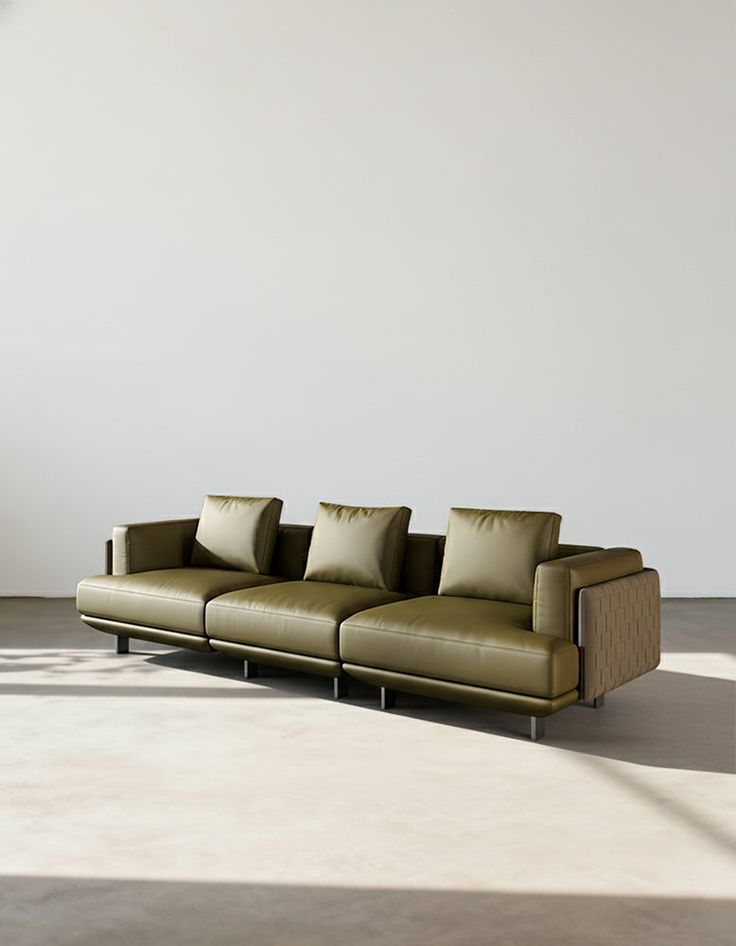3seatersofa: (76, 495, 659, 739)
backrest: (398, 533, 443, 594), (272, 525, 312, 579), (558, 544, 598, 556)
base: (86, 616, 572, 712)
leftarmrest: (533, 548, 658, 704)
leg: (530, 717, 544, 740), (380, 687, 395, 708), (333, 678, 348, 697), (244, 659, 258, 677), (116, 635, 129, 653), (590, 695, 604, 708)
pillow: (440, 508, 558, 603), (306, 503, 410, 590), (193, 496, 281, 573)
rightarmrest: (108, 520, 196, 575)
seat: (80, 568, 577, 700)
